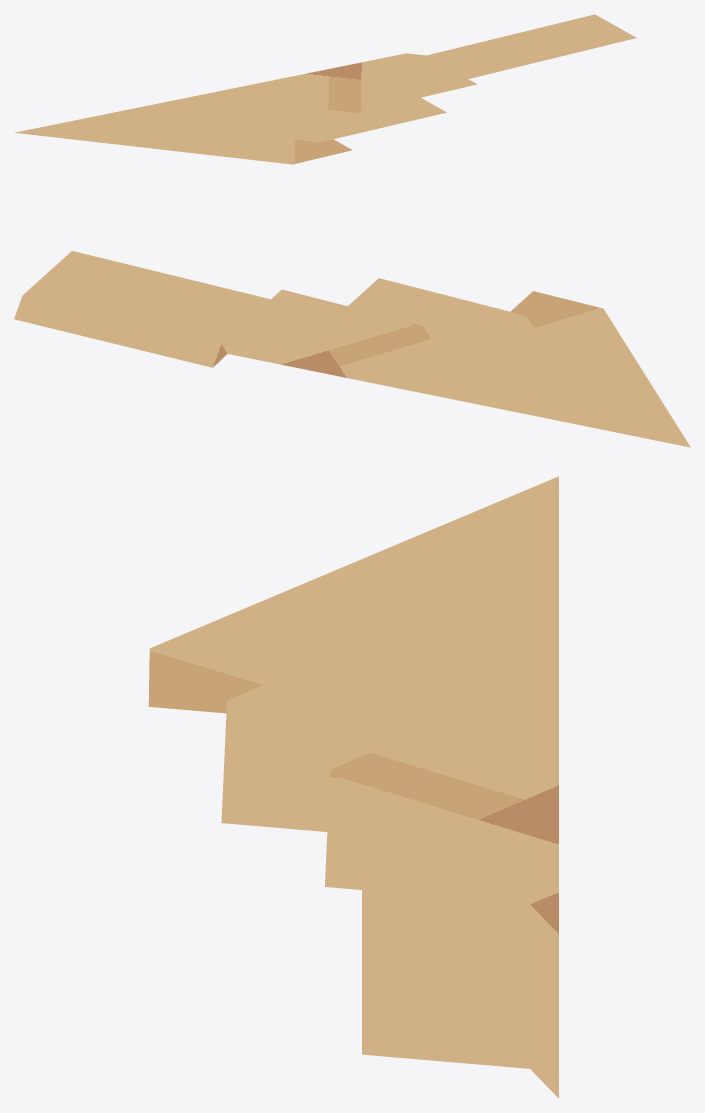
3 views of the same model, one above another, from view 1: azimuth 30°, elevation 25°; view 2: azimuth 150°, elevation 25°; view 3: azimuth 270°, elevation 25° (orthographic). The views are drawn at different scales.
Size of the model in its own units: 0.7178 by 0.0373 by 0.2236.
Materials: 1 (1 with a texture image).
